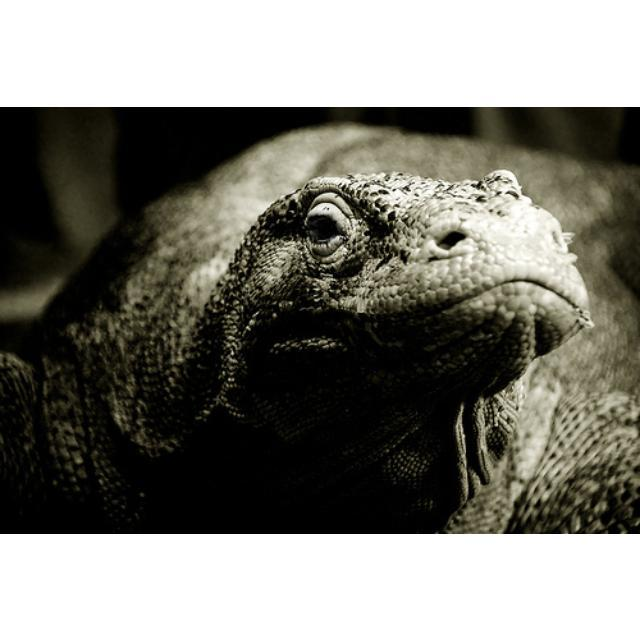KomodoDragon: (1, 118, 638, 531)
